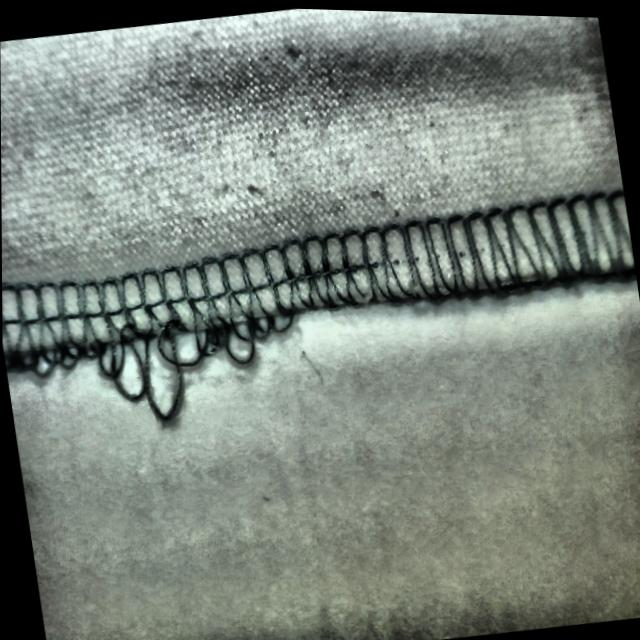Stitch: (7, 228, 309, 445)
